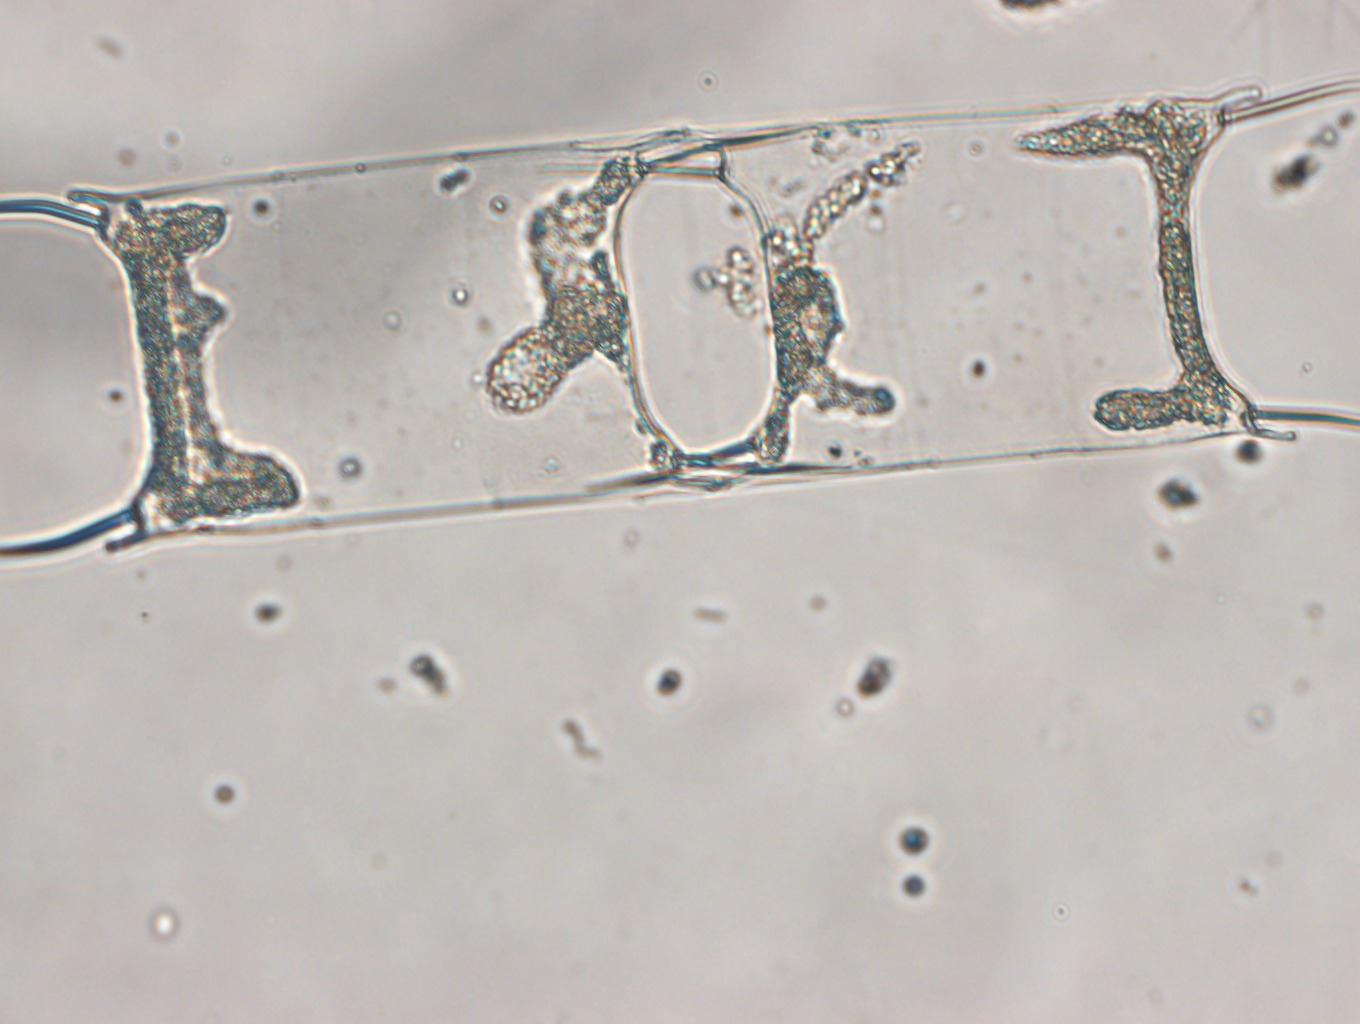biddulphia: (1, 73, 1360, 566)
